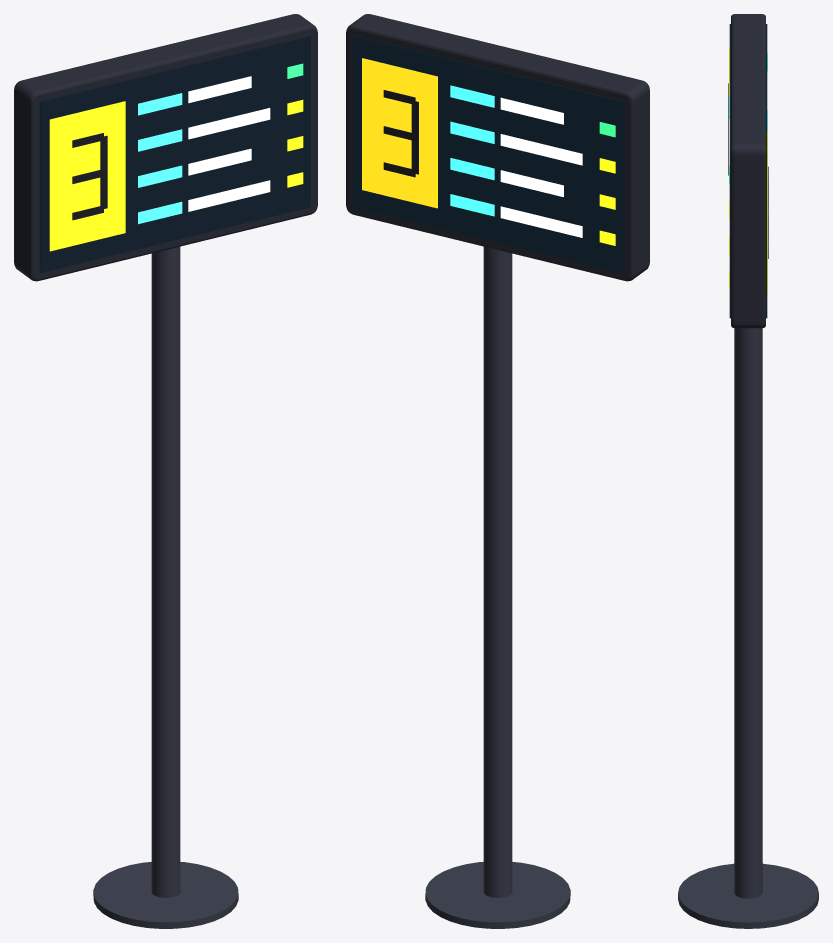
The model's file is air-018.glb.
3 views of the same model, side by side, from view 1: azimuth 30°, elevation 25°; view 2: azimuth 150°, elevation 25°; view 3: azimuth 270°, elevation 25° (orthographic). The views are drawn at different scales.
Parts seen in each view (by area): view 1: screen, pole, housing, belt_tile, base_plate, origin_2, origin_4, origin_1, origin_3; view 2: screen, pole, housing, belt_tile, base_plate, origin_2, origin_4, origin_1, origin_3; view 3: pole, housing, base_plate, screen (×2).
Part boxes in pixels (left/top/right/bottom): screen: left=39, top=35, right=310, bottom=273; pole: left=151, top=246, right=180, bottom=897; housing: left=14, top=14, right=317, bottom=281; belt_tile: left=49, top=101, right=125, bottom=251; base_plate: left=93, top=862, right=238, bottom=928; origin_2: left=188, top=108, right=270, bottom=139; origin_4: left=188, top=180, right=270, bottom=211; origin_1: left=188, top=76, right=251, bottom=103; origin_3: left=188, top=148, right=251, bottom=175; screen: left=353, top=35, right=624, bottom=273; pole: left=483, top=246, right=512, bottom=897; housing: left=346, top=14, right=649, bottom=281; belt_tile: left=362, top=58, right=437, bottom=208; base_plate: left=425, top=862, right=570, bottom=928; origin_2: left=500, top=134, right=582, bottom=165; origin_4: left=500, top=206, right=582, bottom=237; origin_1: left=500, top=97, right=563, bottom=124; origin_3: left=500, top=170, right=563, bottom=196; pole: left=734, top=328, right=762, bottom=898; housing: left=731, top=14, right=765, bottom=328; base_plate: left=678, top=863, right=818, bottom=928; screen (×2): left=729, top=24, right=767, bottom=318.
Size of the model in its own units: 0.916 by 2.57 by 0.4.
